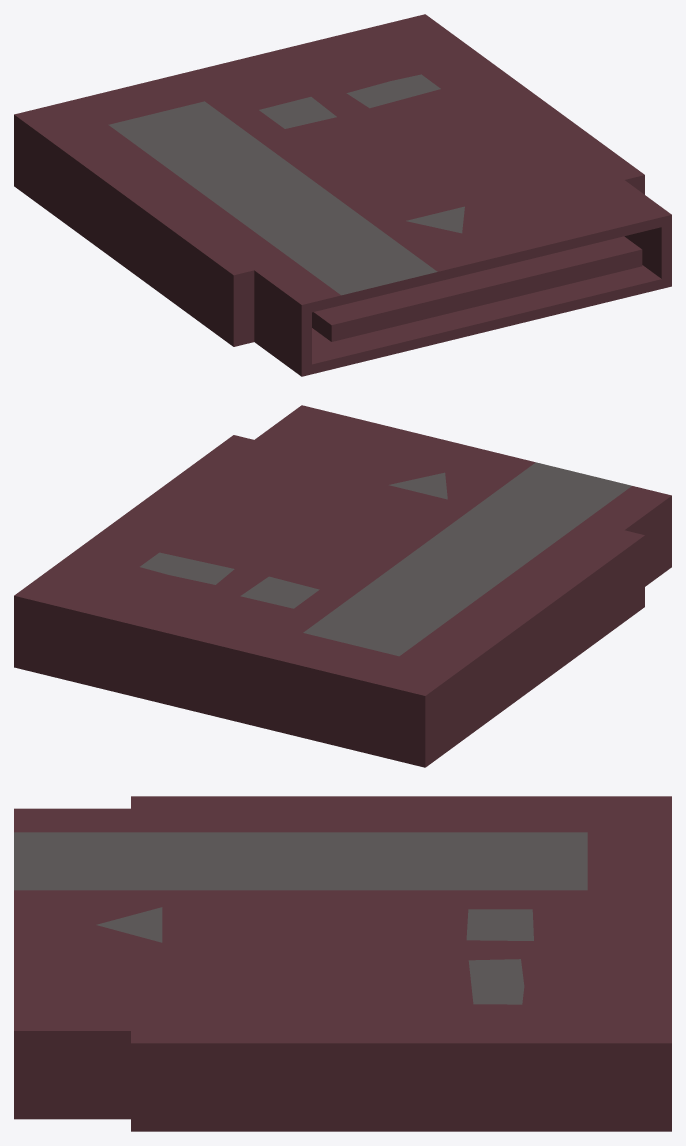
Rendered from cartridge-game-e.fbx.
3 renders of one model, top to bottom at view 1: azimuth 30°, elevation 25°; view 2: azimuth 150°, elevation 25°; view 3: azimuth 270°, elevation 25°, orthographic. The views are drawn at different scales.
Visible parts, largest first — view 1: cartridge-game-e; view 2: cartridge-game-e; view 3: cartridge-game-e.
Part boxes in pixels (box(x1,y1,x2,y2)): cartridge-game-e: box(14, 14, 671, 376); cartridge-game-e: box(14, 405, 671, 767); cartridge-game-e: box(14, 796, 671, 1131).
Size of the model in its own units: 0.132 by 0.022 by 0.1485.
